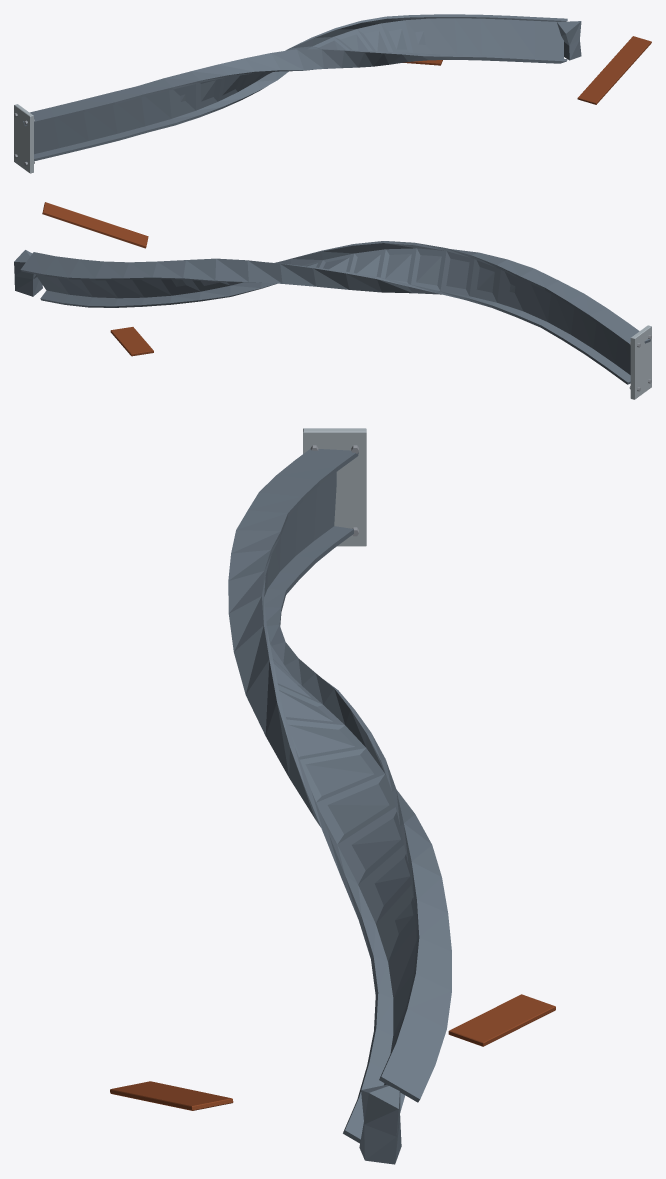
The model's file is DESTROY_15.obj.
3 views of the same model, one above another, from view 1: azimuth 30°, elevation 25°; view 2: azimuth 150°, elevation 25°; view 3: azimuth 270°, elevation 25° (orthographic). The views are drawn at different scales.
Parts seen in each view (by area): view 1: DESTROY_15__beam, DESTROY_15__torn_flange_a, DESTROY_15__end_plate, DESTROY_15__far_end_tear; view 2: DESTROY_15__beam, DESTROY_15__torn_flange_a, DESTROY_15__end_plate, DESTROY_15__far_end_tear, DESTROY_15__torn_flange_b; view 3: DESTROY_15__beam, DESTROY_15__end_plate, DESTROY_15__far_end_tear, DESTROY_15__torn_flange_b, DESTROY_15__torn_flange_a.
Boxes of the visible parts, <box> form: DESTROY_15__beam: <box>23,14,567,161</box>; DESTROY_15__torn_flange_a: <box>577,36,651,104</box>; DESTROY_15__end_plate: <box>14,104,33,173</box>; DESTROY_15__far_end_tear: <box>557,21,581,60</box>; DESTROY_15__beam: <box>20,241,650,384</box>; DESTROY_15__torn_flange_a: <box>42,202,148,248</box>; DESTROY_15__end_plate: <box>630,325,651,399</box>; DESTROY_15__far_end_tear: <box>14,250,42,296</box>; DESTROY_15__torn_flange_b: <box>110,327,153,356</box>; DESTROY_15__beam: <box>228,449,451,1143</box>; DESTROY_15__end_plate: <box>303,428,366,546</box>; DESTROY_15__far_end_tear: <box>359,1084,401,1164</box>; DESTROY_15__torn_flange_b: <box>448,994,555,1046</box>; DESTROY_15__torn_flange_a: <box>110,1081,233,1110</box>.
Size of the model in its own units: 6.08 by 1.09 by 1.97.
